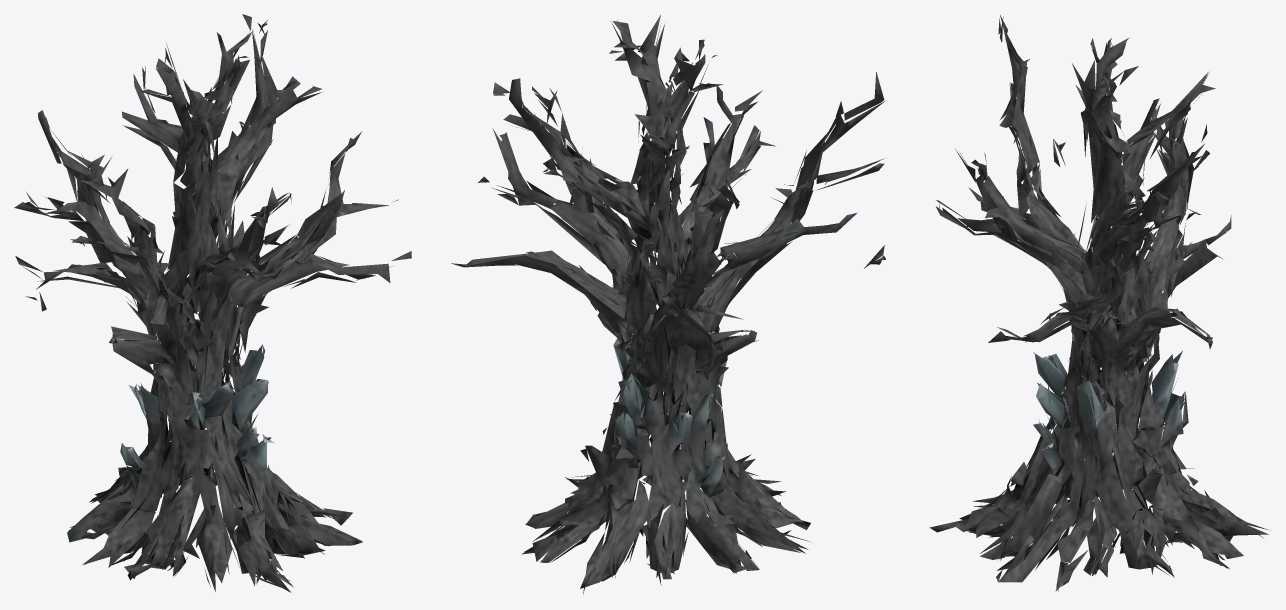
Rendered from arvore_cristal_mana_morta.glb.
3 renders of one model, left to right at view 1: azimuth 30°, elevation 25°; view 2: azimuth 150°, elevation 25°; view 3: azimuth 270°, elevation 25°, orthographic. The views are drawn at different scales.
Visible parts, largest first — view 1: geometry_0; view 2: geometry_0; view 3: geometry_0.
Boxes of the visible parts, x1,y1,x2,y2 form: geometry_0: [14, 14, 411, 592]; geometry_0: [451, 15, 885, 593]; geometry_0: [929, 15, 1270, 591].
Bounding box in the file's own units: 0.7681 × 0.9428 × 0.5944.
Materials: 1 (1 with a texture image).
